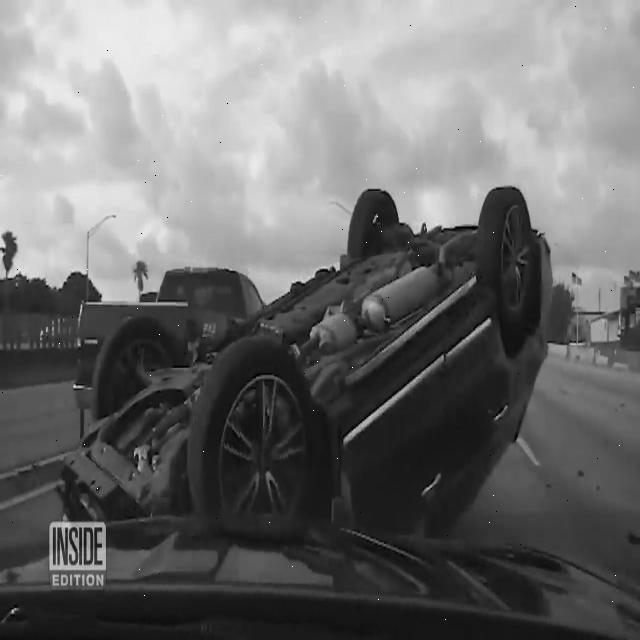accident: (66, 180, 557, 532)
